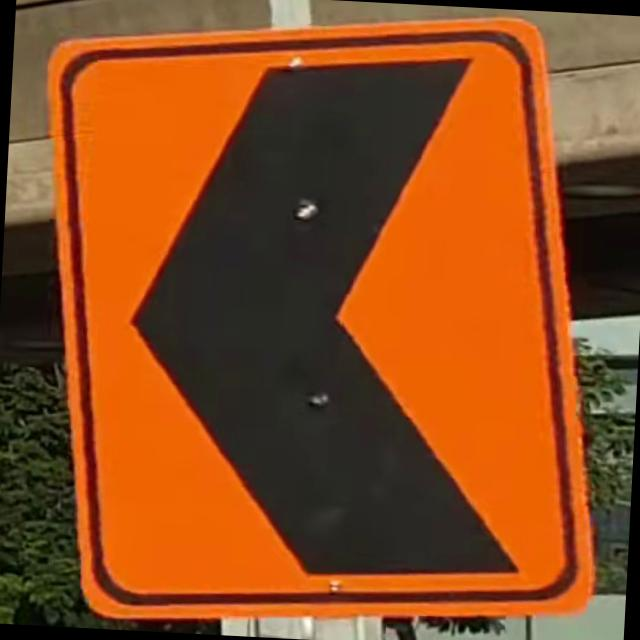curveleft_sign: (16, 0, 626, 640)
